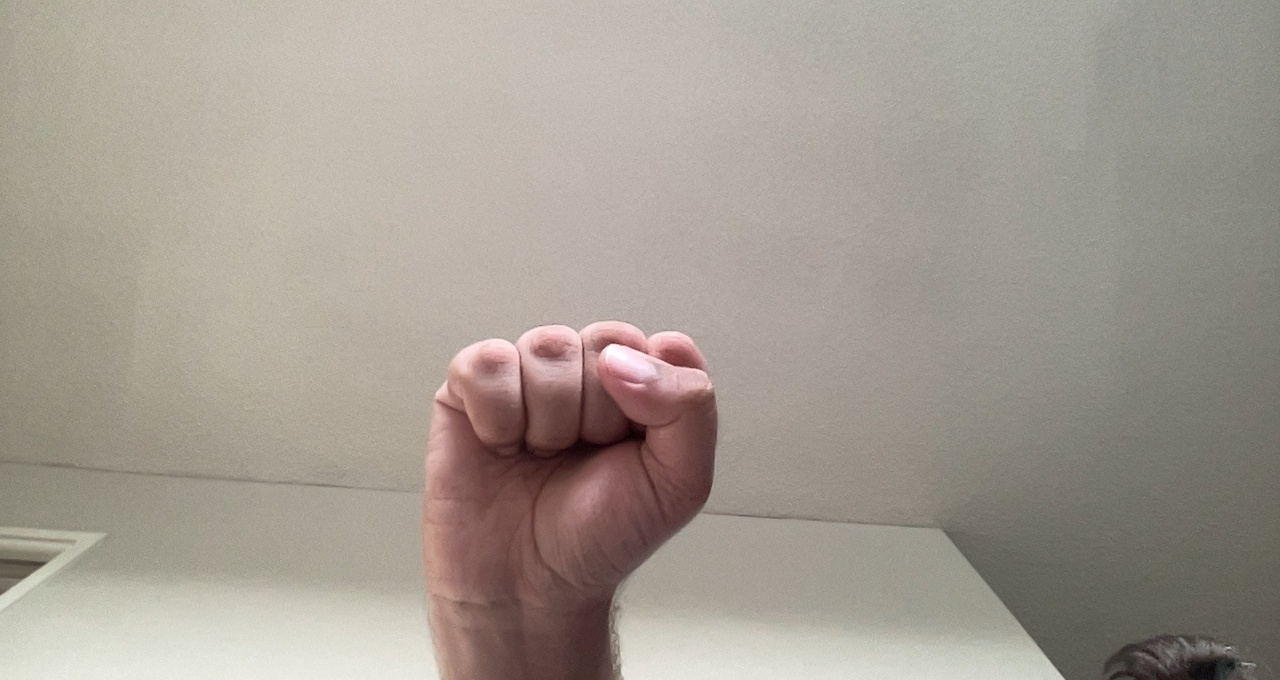closedfist: (416, 312, 729, 639)
